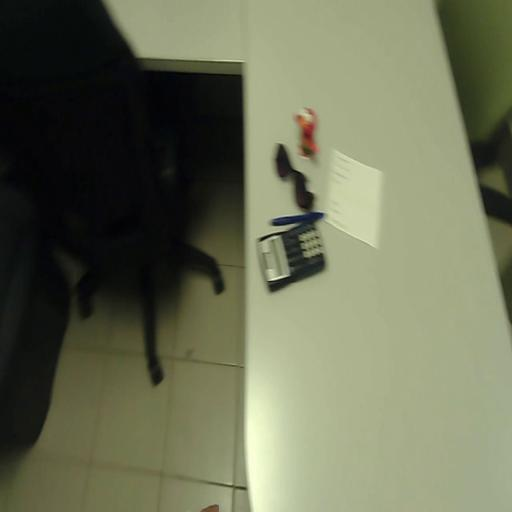pen: (270, 211, 326, 225)
